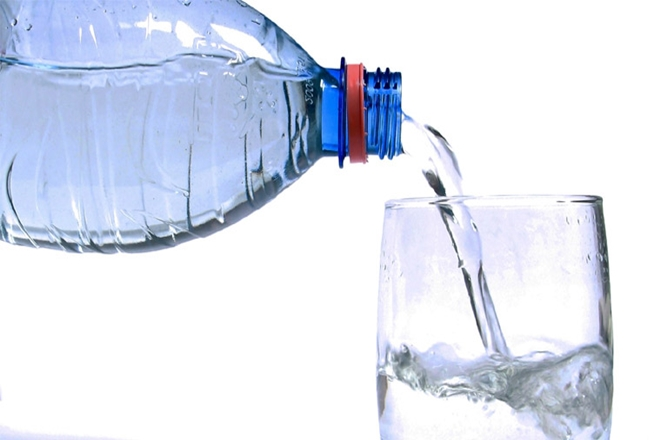glass of water: (392, 197, 613, 437)
